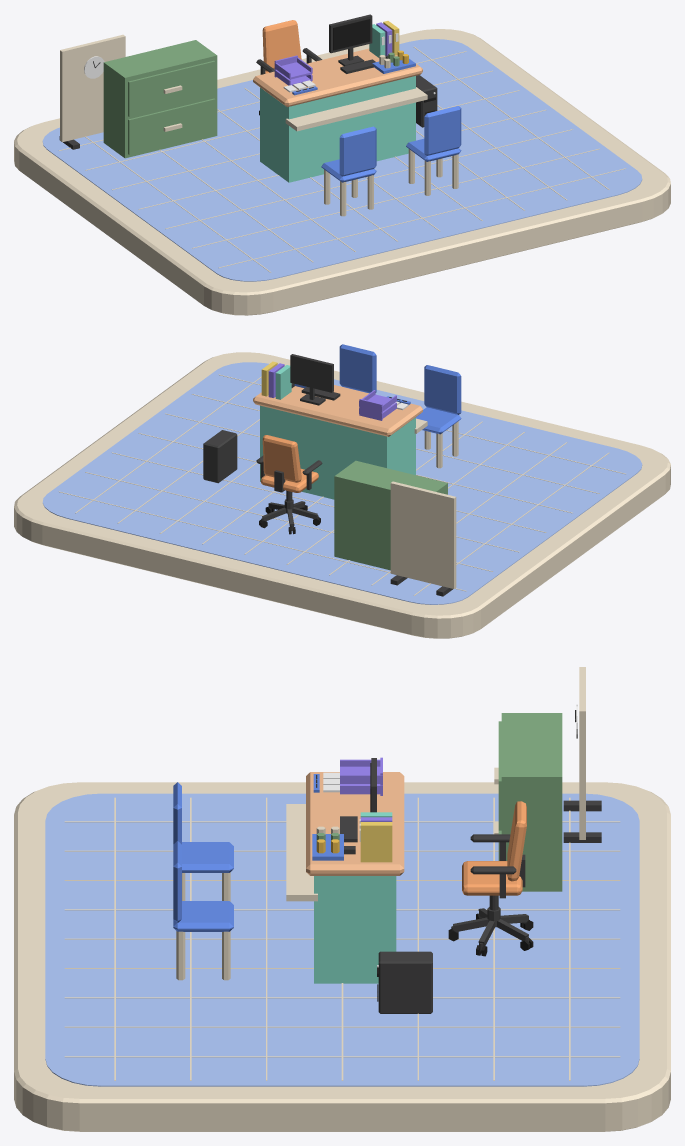
The model's file is room.fbx.
3 views of the same model, one above another, from view 1: azimuth 30°, elevation 25°; view 2: azimuth 150°, elevation 25°; view 3: azimuth 270°, elevation 25° (orthographic). The views are drawn at different scales.
Visible parts, largest first — view 1: COM-02 Floor Surface, COM-01 Rounded Base Direct, Cabinet, Counter body, Panel, Countertop, Visitor shelf, COM-04_Chair_blender_direct, Backrest, Backrest.001, Frame, Tower (+5 smaller); view 2: COM-02 Floor Surface, COM-01 Rounded Base Direct, Counter body, Cabinet, Panel, Countertop, COM-04_Chair_blender_direct, Backrest, Backrest.001, Tower, Frame, Seat (+2 smaller); view 3: COM-02 Floor Surface, COM-01 Rounded Base Direct, Cabinet, Counter body, Countertop, COM-04_Chair_blender_direct, Tower, Visitor shelf, Seat.001, Seat, File.002, Panel (+7 smaller).
Part boxes in pixels (bbox=[...]): COM-02 Floor Surface: bbox=[42, 39, 642, 281]; COM-01 Rounded Base Direct: bbox=[14, 29, 670, 315]; Cabinet: bbox=[103, 40, 217, 158]; Counter body: bbox=[260, 76, 415, 182]; Panel: bbox=[60, 34, 125, 142]; Countertop: bbox=[253, 48, 422, 107]; Visitor shelf: bbox=[285, 87, 427, 131]; COM-04_Chair_blender_direct: bbox=[256, 20, 322, 115]; Backrest: bbox=[339, 126, 376, 176]; Backrest.001: bbox=[424, 106, 461, 155]; Frame: bbox=[329, 14, 372, 66]; Tower: bbox=[416, 75, 437, 127]; COM-02 Floor Surface: bbox=[42, 362, 642, 604]; COM-01 Rounded Base Direct: bbox=[14, 352, 670, 638]; Counter body: bbox=[260, 405, 415, 499]; Cabinet: bbox=[334, 460, 447, 570]; Panel: bbox=[390, 481, 456, 588]; Countertop: bbox=[253, 385, 422, 436]; COM-04_Chair_blender_direct: bbox=[256, 435, 322, 534]; Backrest: bbox=[424, 365, 461, 414]; Backrest.001: bbox=[339, 344, 376, 393]; Tower: bbox=[203, 430, 237, 483]; Frame: bbox=[290, 354, 333, 405]; Seat: bbox=[416, 407, 461, 434]; COM-02 Floor Surface: bbox=[45, 793, 639, 1086]; COM-01 Rounded Base Direct: bbox=[14, 782, 670, 1131]; Cabinet: bbox=[494, 713, 562, 891]; Counter body: bbox=[314, 876, 396, 983]; Countertop: bbox=[306, 772, 404, 875]; COM-04_Chair_blender_direct: bbox=[448, 801, 533, 956]; Tower: bbox=[378, 951, 432, 1013]; Visitor shelf: bbox=[286, 804, 317, 901]; Seat.001: bbox=[173, 901, 233, 931]; Seat: bbox=[182, 842, 233, 872]; File.002: bbox=[360, 822, 392, 862]; Panel: bbox=[579, 667, 585, 839].
Size of the model in its own units: 600 by 187 by 520.
